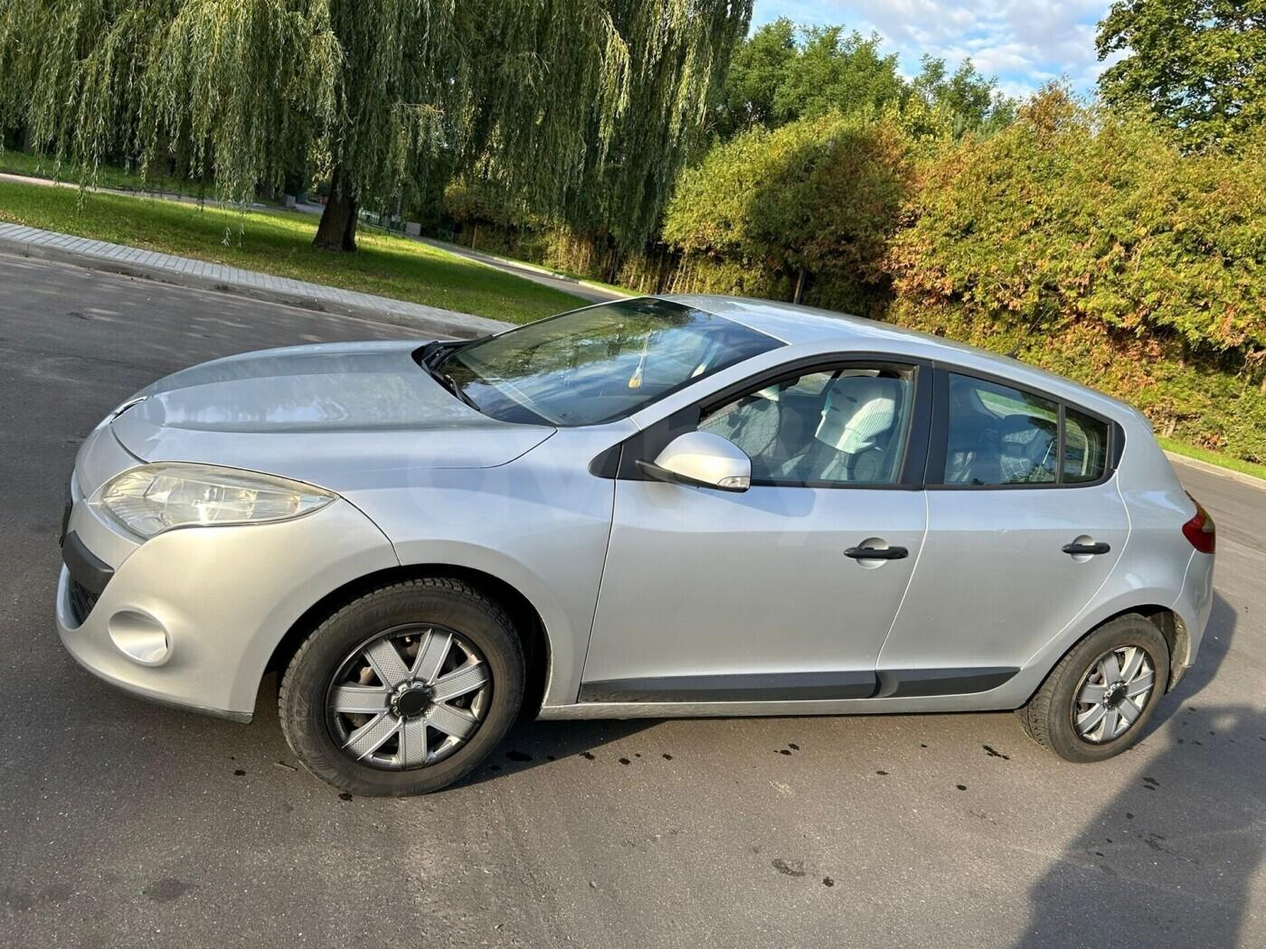Megane_2008-2014: (50, 278, 1232, 799)
